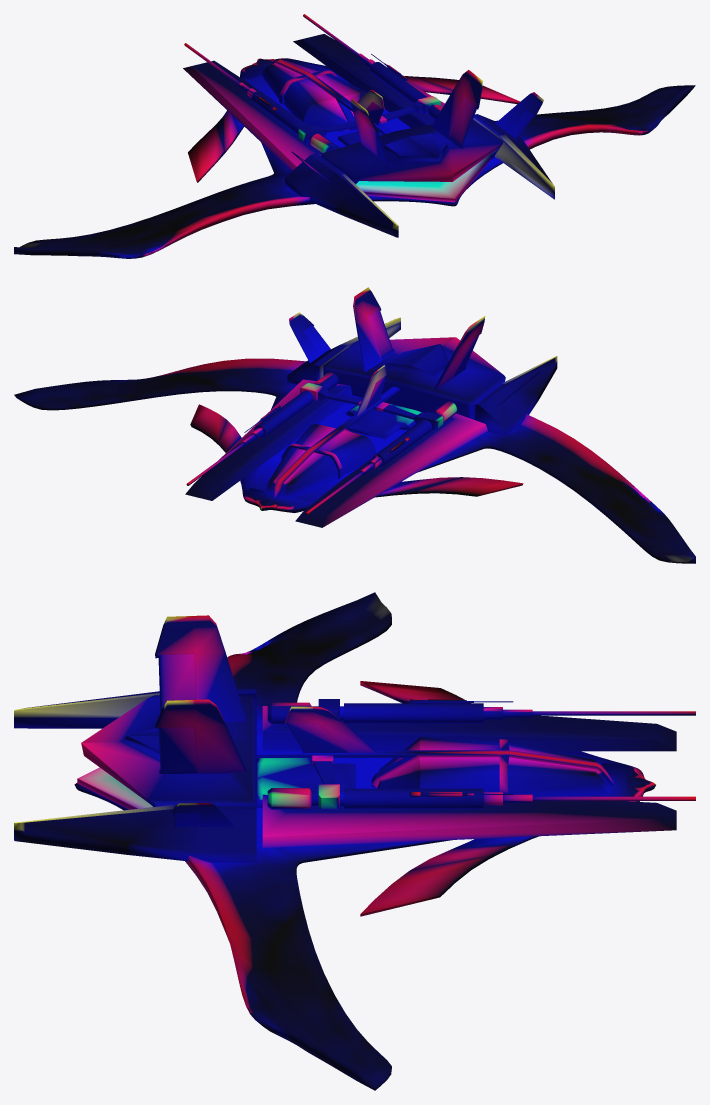
File: ad_interceptor_01.fbx
3 renders of one model, top to bottom at view 1: azimuth 30°, elevation 25°; view 2: azimuth 150°, elevation 25°; view 3: azimuth 270°, elevation 25°, orthographic. The views are drawn at different scales.
Visible parts, largest first — view 1: ad_interceptor_01; view 2: ad_interceptor_01; view 3: ad_interceptor_01.
Part boxes in pixels (x1,y1,x2,y2): ad_interceptor_01: (14,14,695,258); ad_interceptor_01: (14,287,695,563); ad_interceptor_01: (14,592,695,1090).
Bounding box in the file's own units: 1970 × 356 × 1159.
